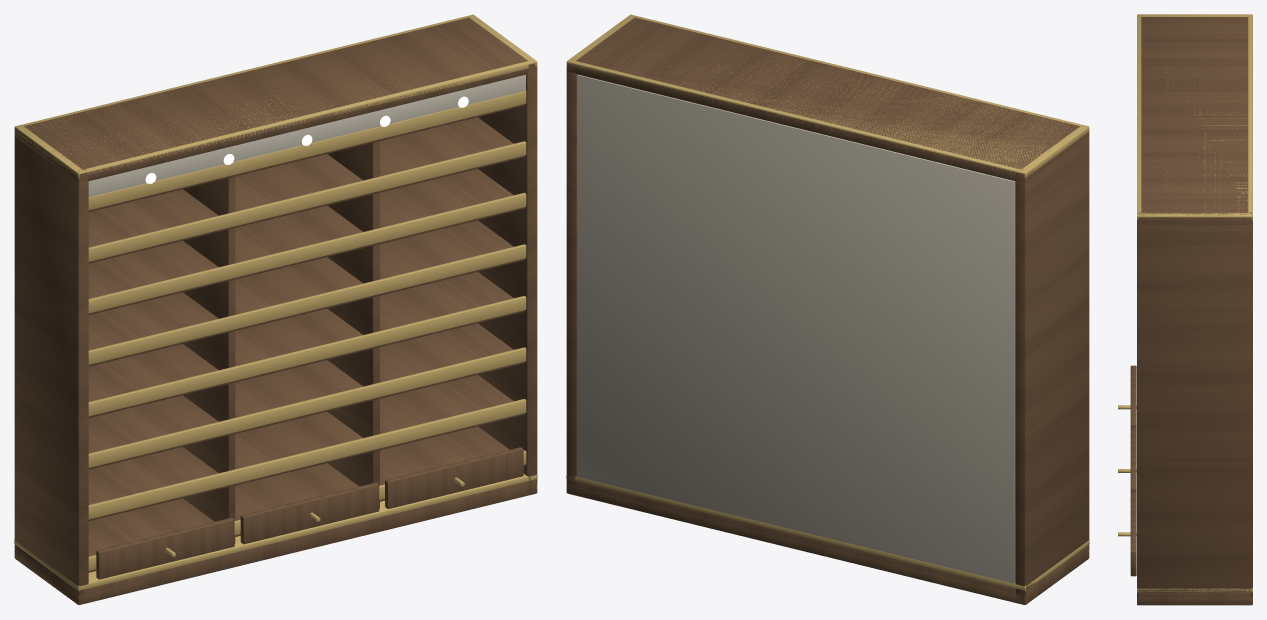
File: pf_display_snack_shelving_t5.glb
3 views of the same model, side by side, from view 1: azimuth 30°, elevation 25°; view 2: azimuth 150°, elevation 25°; view 3: azimuth 270°, elevation 25° (orthographic). The views are drawn at different scales.
Parts seen in each view (by area): view 1: Case_Left, Crown_Main, Shelf_03, Shelf_02, Shelf_07, Shelf_04, Shelf_05, Shelf_06, Case_Right, Shelf_01, Millwork_Divider_01, Millwork_Divider_02 (+17 smaller); view 2: Case_Back, Case_Left, Crown_Main, Crown_Trim, Case_Right, Case_Base, Case_Top, Plinth_Base, Plinth_Trim; view 3: Case_Right, Crown_Main, Crown_Trim, Plinth_Base, Case_Base, Case_Top, Drawer_Front_03, Plinth_Trim, Drawer_Front_01, Drawer_Front_02.
Boxes of the visible parts, <box> form: Case_Left: <box>14,129,88,604</box>; Crown_Main: <box>24,17,527,169</box>; Shelf_03: <box>88,323,524,469</box>; Shelf_02: <box>88,375,524,520</box>; Shelf_07: <box>88,117,524,263</box>; Shelf_04: <box>88,272,524,417</box>; Shelf_05: <box>88,220,524,366</box>; Shelf_06: <box>88,169,524,314</box>; Case_Right: <box>478,63,537,495</box>; Shelf_01: <box>88,426,524,572</box>; Millwork_Divider_01: <box>183,176,235,543</box>; Millwork_Divider_02: <box>327,141,379,508</box>; Case_Back: <box>577,74,1015,583</box>; Case_Left: <box>1015,132,1089,604</box>; Crown_Main: <box>576,17,1079,169</box>; Crown_Trim: <box>566,14,1089,178</box>; Case_Right: <box>566,63,577,494</box>; Case_Base: <box>566,484,1089,604</box>; Case_Top: <box>567,64,1088,182</box>; Plinth_Base: <box>568,481,1088,602</box>; Plinth_Trim: <box>566,474,1089,591</box>; Case_Right: <box>1137,212,1252,605</box>; Crown_Main: <box>1141,17,1248,212</box>; Crown_Trim: <box>1137,14,1252,220</box>; Plinth_Base: <box>1139,592,1250,603</box>; Case_Base: <box>1137,597,1252,605</box>; Case_Top: <box>1137,194,1252,224</box>; Drawer_Front_03: <box>1130,492,1136,576</box>; Plinth_Trim: <box>1137,588,1252,592</box>; Drawer_Front_01: <box>1130,365,1136,429</box>; Drawer_Front_02: <box>1130,429,1136,492</box>.
Bounding box in the file's own units: 2.8 × 2.52 × 0.79.
Materials: 5 (1 with a texture image).
